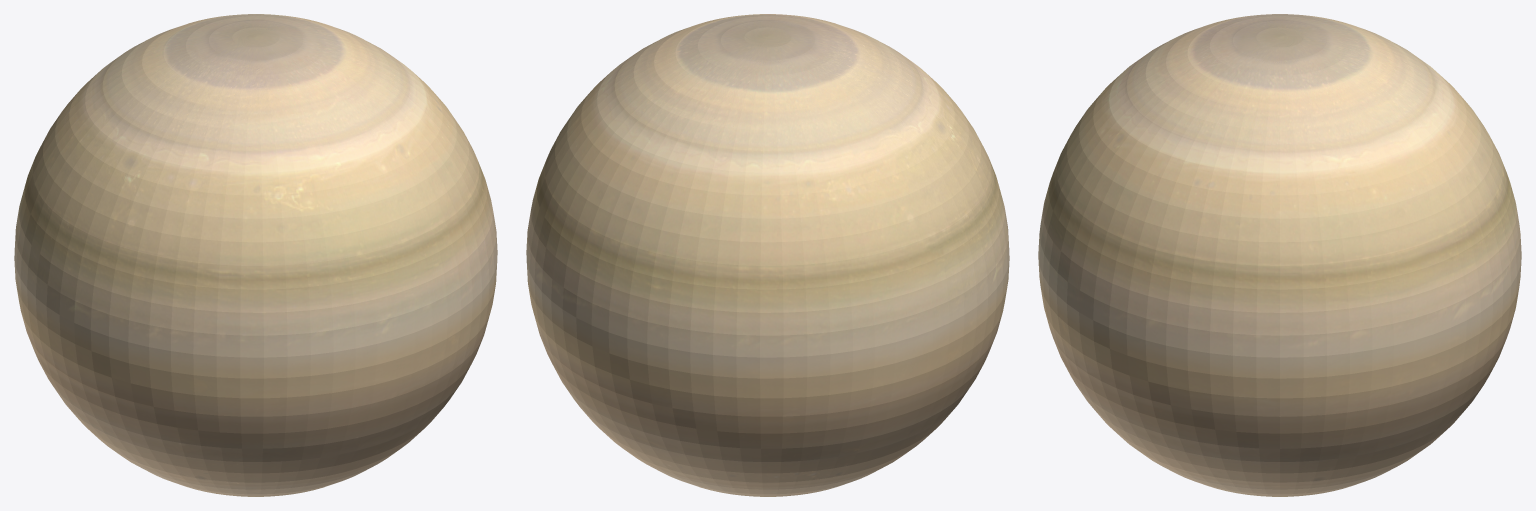
File: globe.obj
3 views of the same model, side by side, from view 1: azimuth 30°, elevation 25°; view 2: azimuth 150°, elevation 25°; view 3: azimuth 270°, elevation 25° (orthographic).
Parts seen in each view (by area): view 1: Globe_Sphere; view 2: Globe_Sphere; view 3: Globe_Sphere.
Part boxes in pixels (x1,y1,x2,y2): Globe_Sphere: (14,14,497,496); Globe_Sphere: (526,14,1009,496); Globe_Sphere: (1038,14,1521,496).
Bounding box in the file's own units: 2 × 2 × 2.
